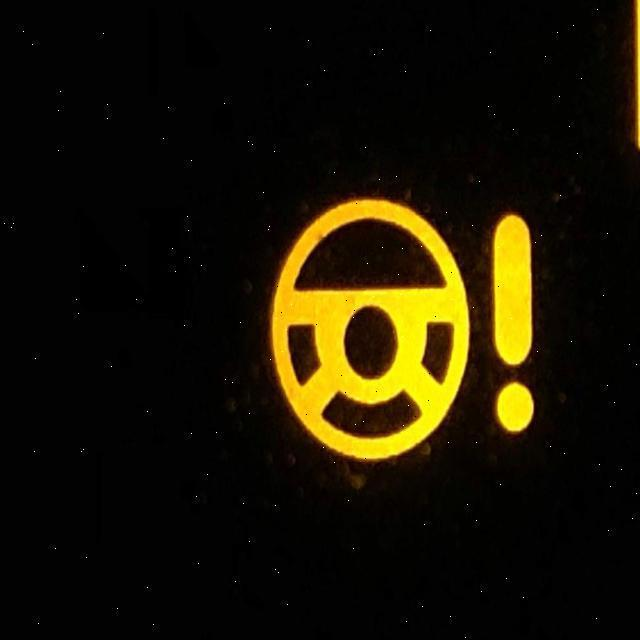Electronic Power Steering Warning: (270, 195, 539, 459)
